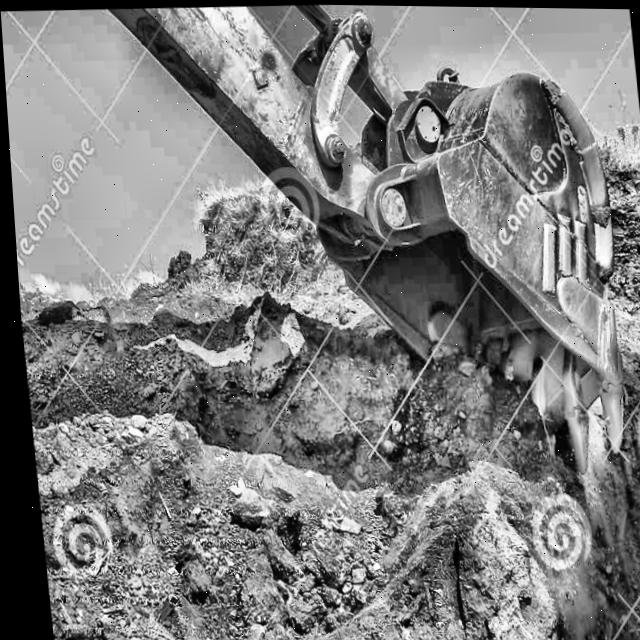excavator: (0, 0, 640, 505)
